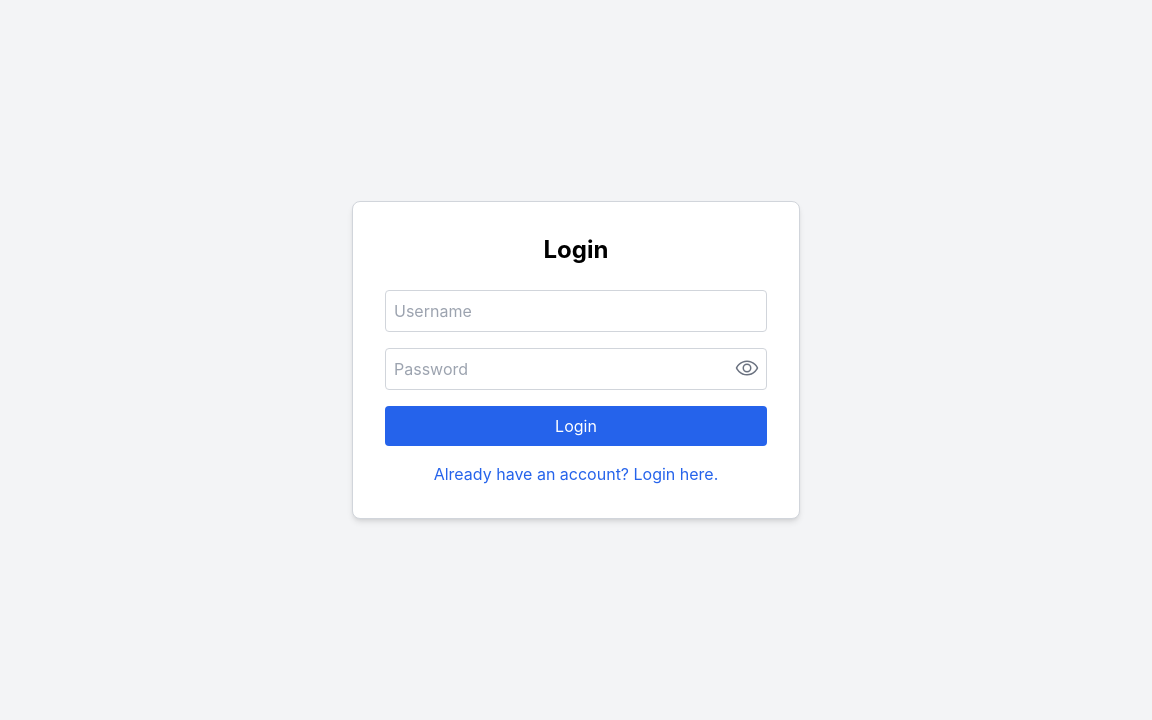
Test case: Home Component Tests › should render the logout button and display confirmation prompt on click
The width and height of the screenshot is (1152, 720).
Type "validUsername" into the field named "username".
click(576, 311); type("validUsername")  # box [385,290,767,332]
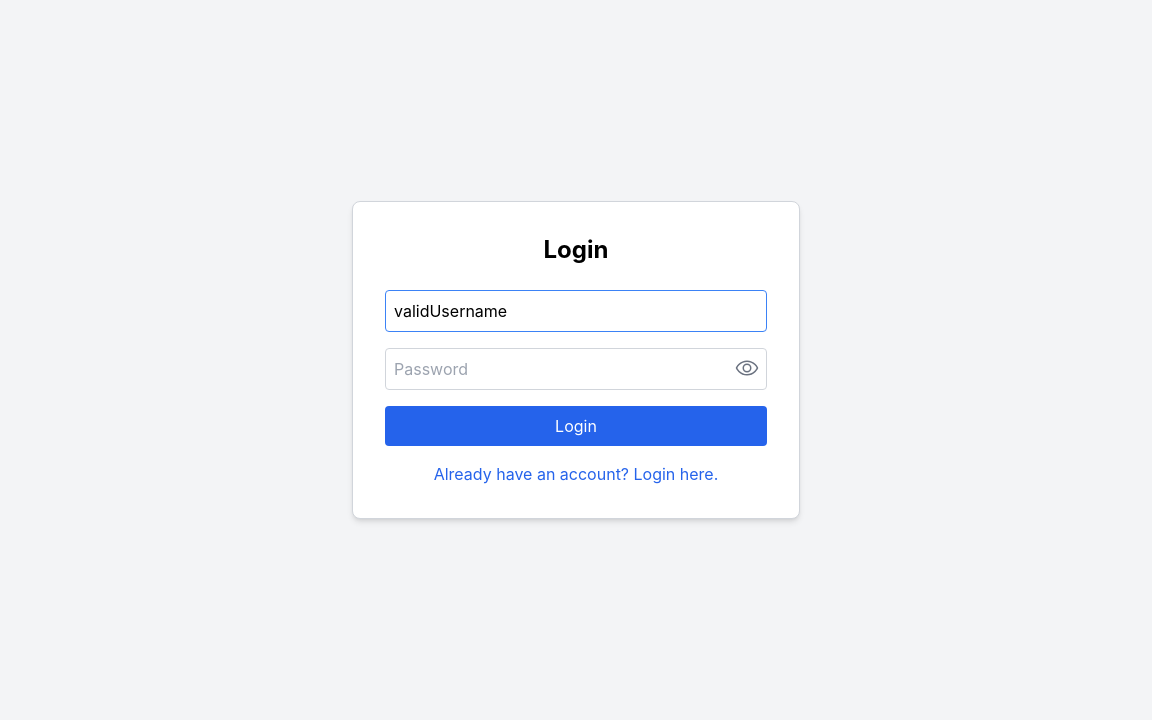
Type "validPassword" into the password field named "password".
click(576, 369); type("validPassword")  # box [385,348,767,390]
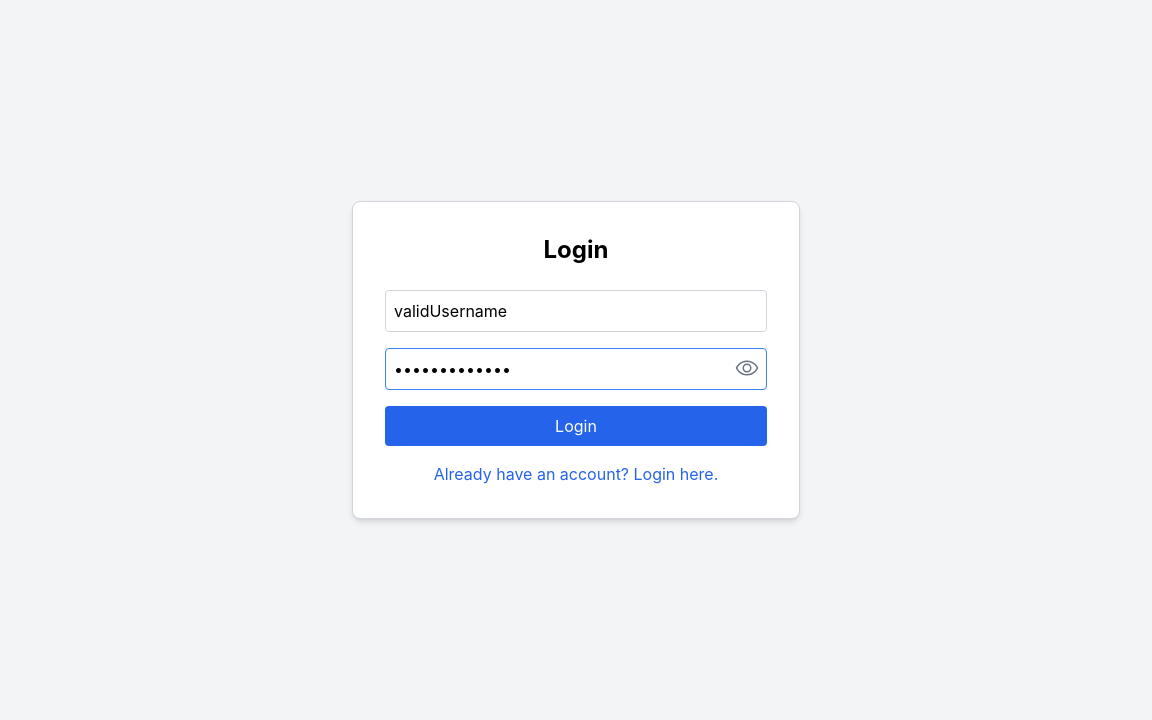
Click the submit button.
click(576, 426)  # box [385,406,767,446]
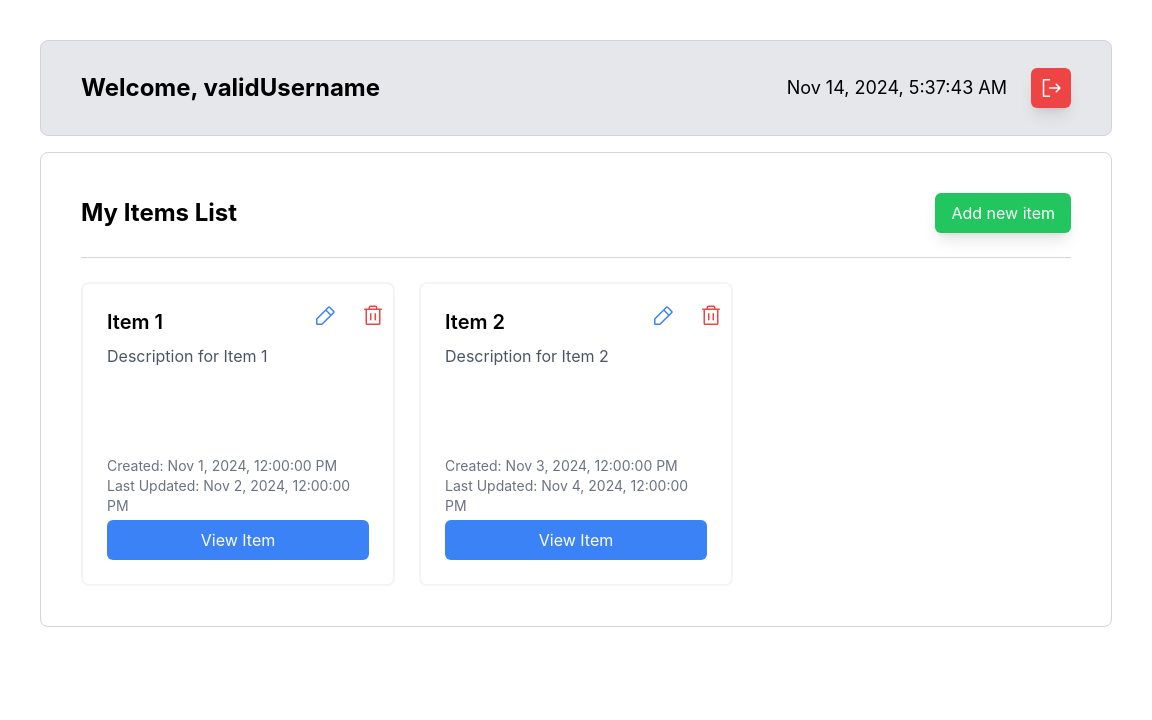
expect the button named "Logout" is shown: met
Click the button named "Logout".
click(1051, 88)  # box [1031,68,1071,108]
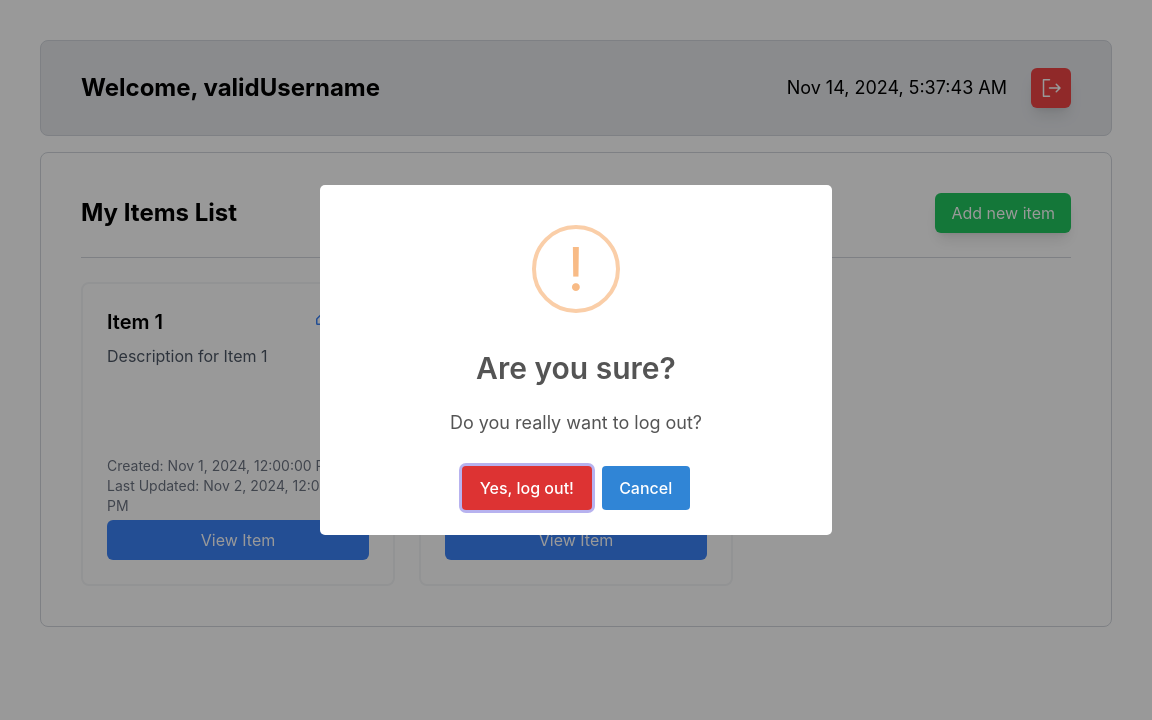
expect the heading with class "swal2-title" reads "Are you sure?": met, box [476,350,676,386]
expect the button with class "swal2-confirm" reads "Yes, log out!": met, box [462,467,591,511]
